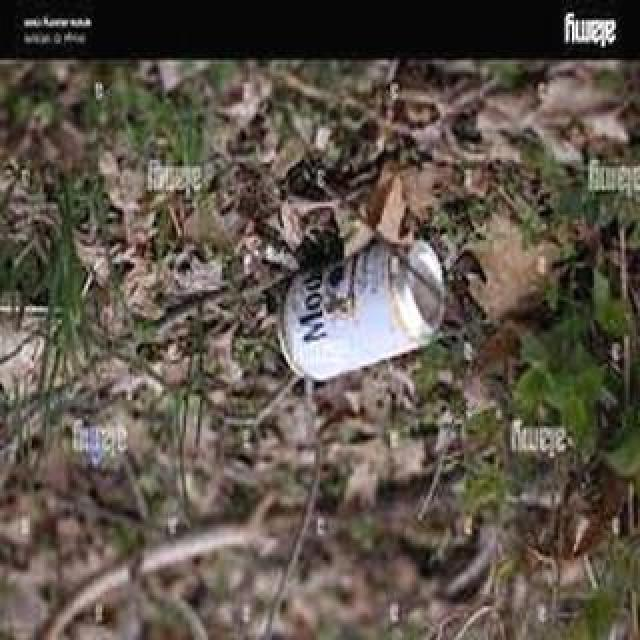Can: (261, 225, 453, 391)
